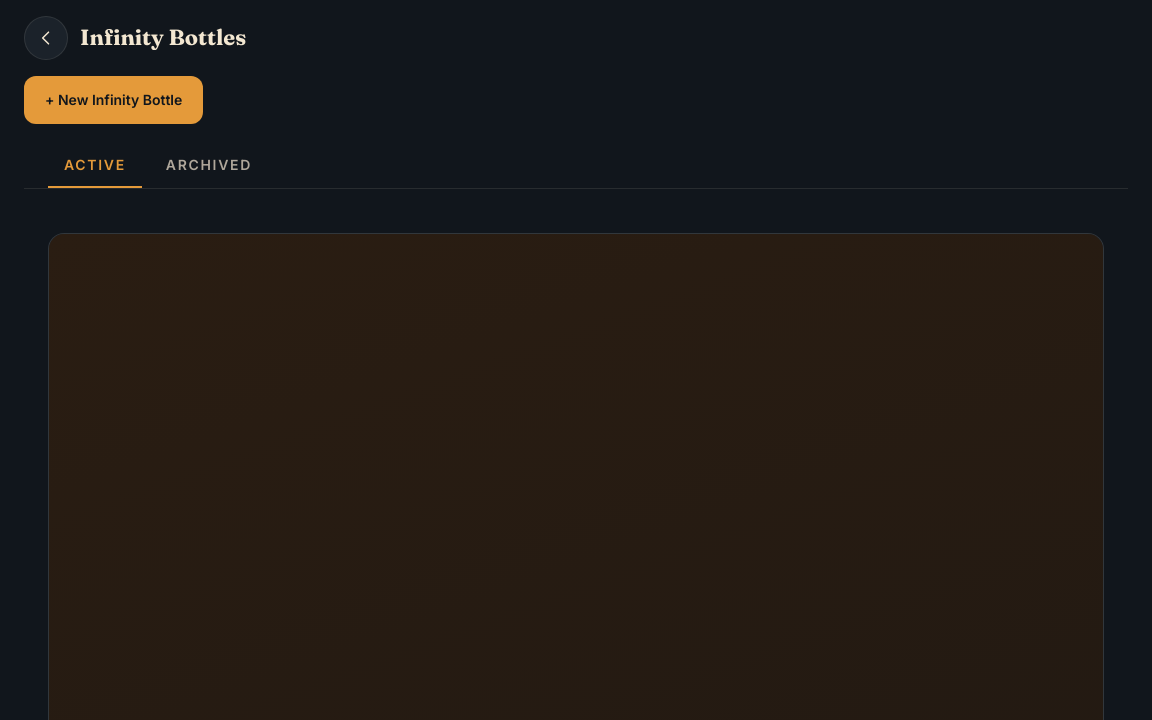
InfinityBottlesHomePage — Archived tab › shows only archived Infinity Bottles, leaving active ones out
The width and height of the screenshot is (1152, 720).
Click the tab "Archived". click: {"x": 209, "y": 166}
box: x1=150 y1=144 x2=268 y2=188
(page scrolled)
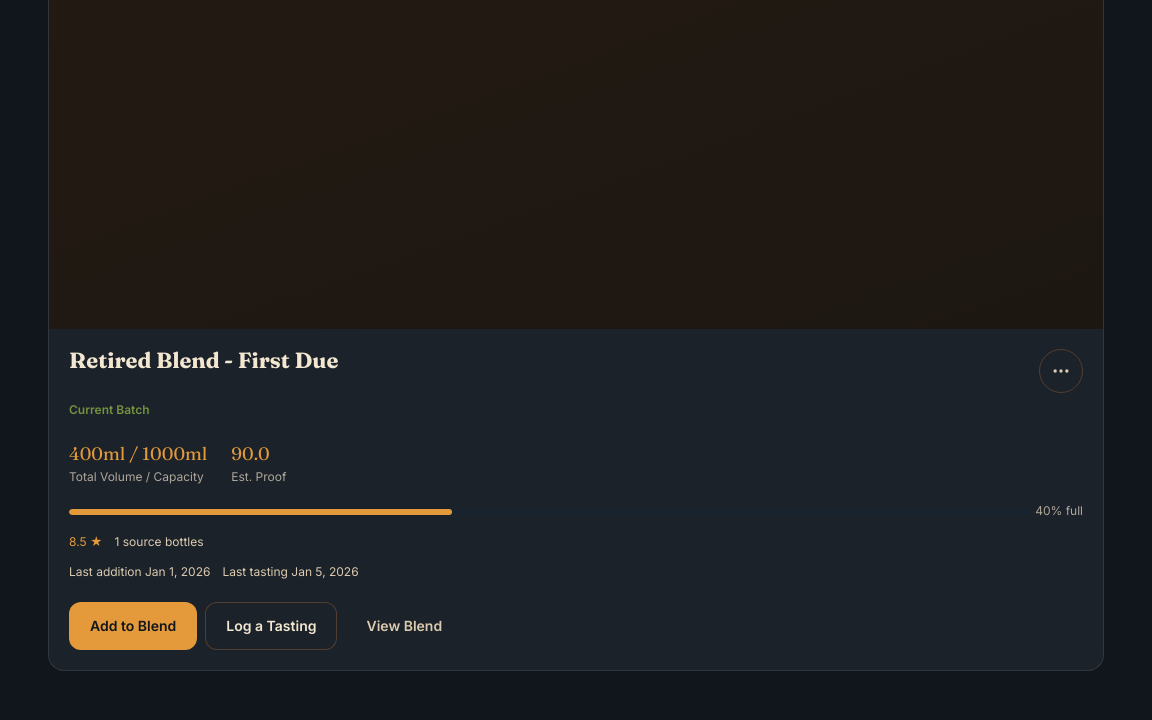
expect the heading "Retired Blend - First Due" is shown: met, box x1=69 y1=349 x2=338 y2=372
